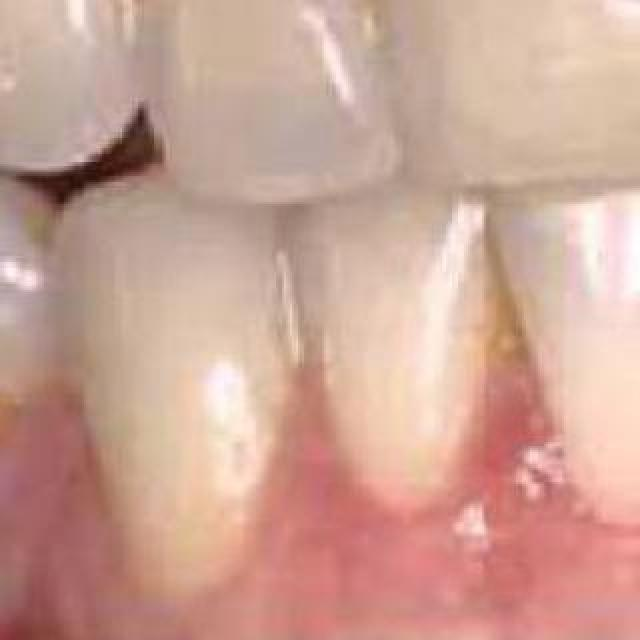plaque: (429, 232, 591, 410)
